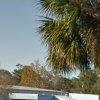Palm tree: (35, 0, 99, 80)
